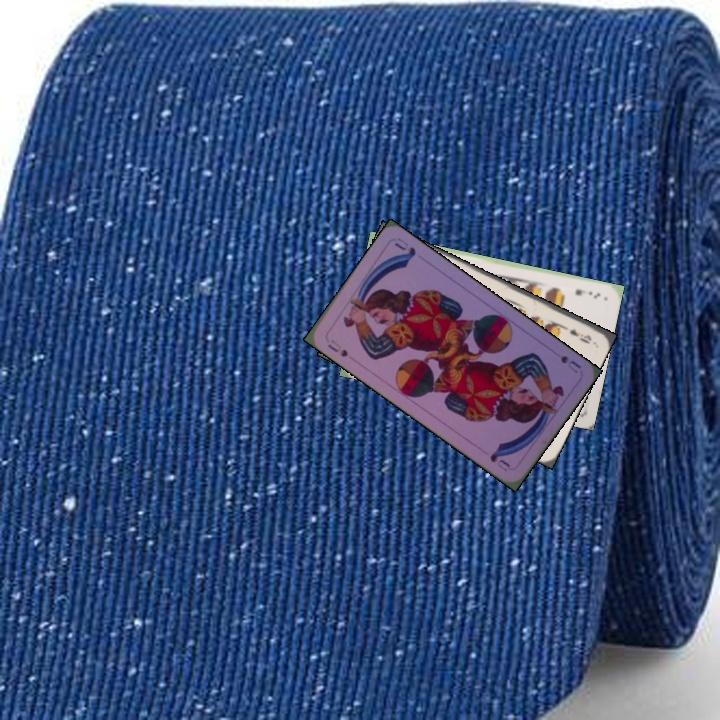E7: (571, 285, 603, 301)
E9: (557, 321, 594, 347)
SU: (556, 351, 584, 376), (324, 335, 350, 360)
